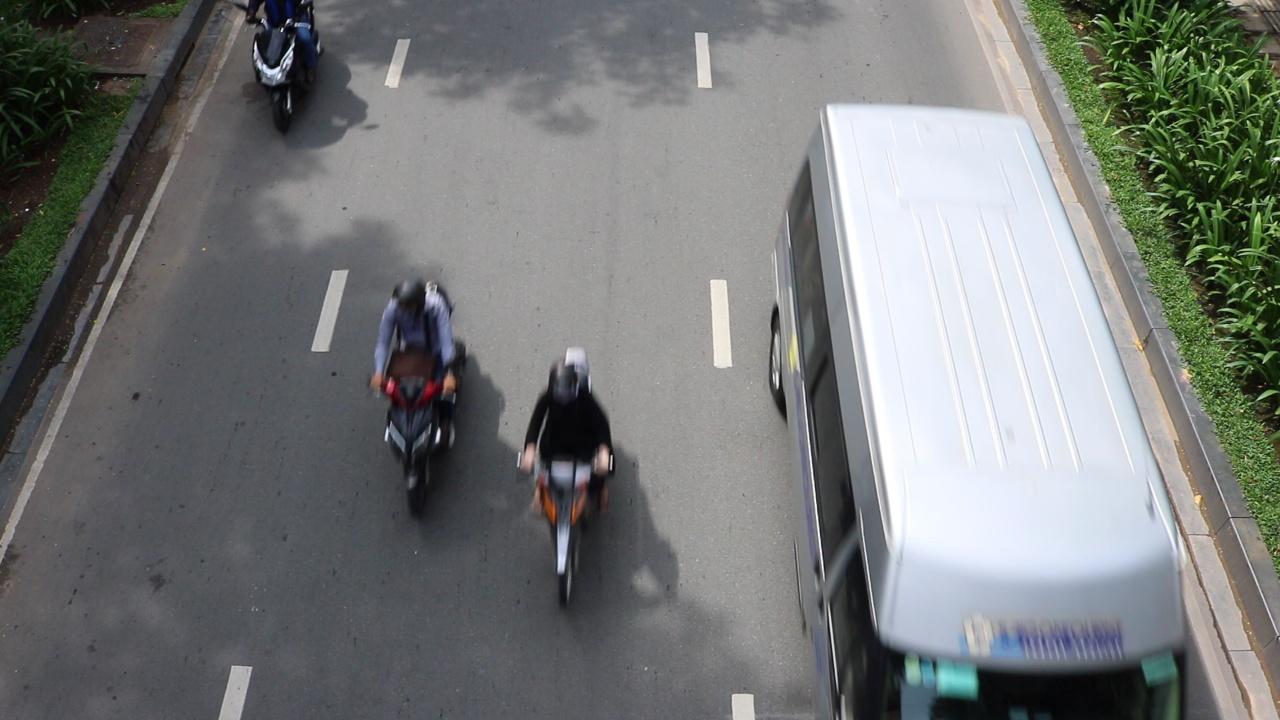car: (765, 103, 1189, 713)
motorcycle: (526, 446, 613, 603), (378, 361, 459, 516), (243, 1, 323, 134)
